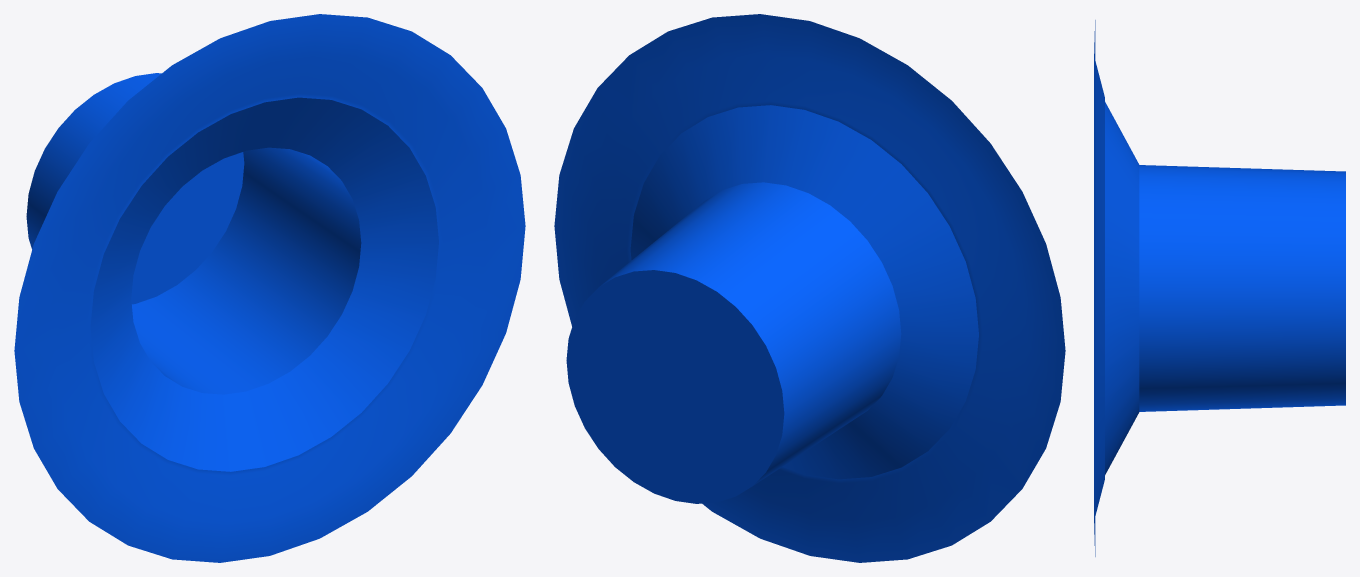
Rendered from KickOutHole.fbx.
3 renders of one model, left to right at view 1: azimuth 30°, elevation 25°; view 2: azimuth 150°, elevation 25°; view 3: azimuth 270°, elevation 25°, orthographic. The views are drawn at different scales.
Visible parts, largest first — view 1: KickOutHole; view 2: KickOutHole; view 3: KickOutHole.
Boxes of the visible parts, x1,y1,x2,y2 form: KickOutHole: (14,14,525,562); KickOutHole: (554,14,1065,562); KickOutHole: (1094,20,1345,556).
Bounding box in the file's own units: 287 × 287 × 132.
